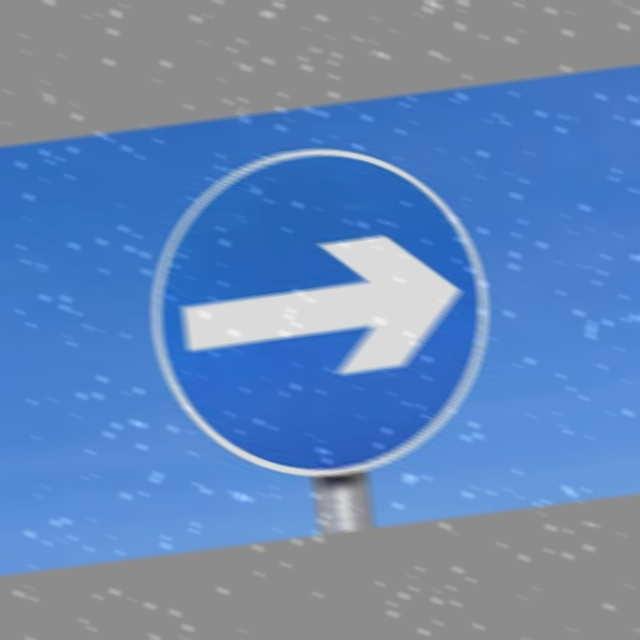Compulsory_Turn_Right: (140, 126, 504, 491)
